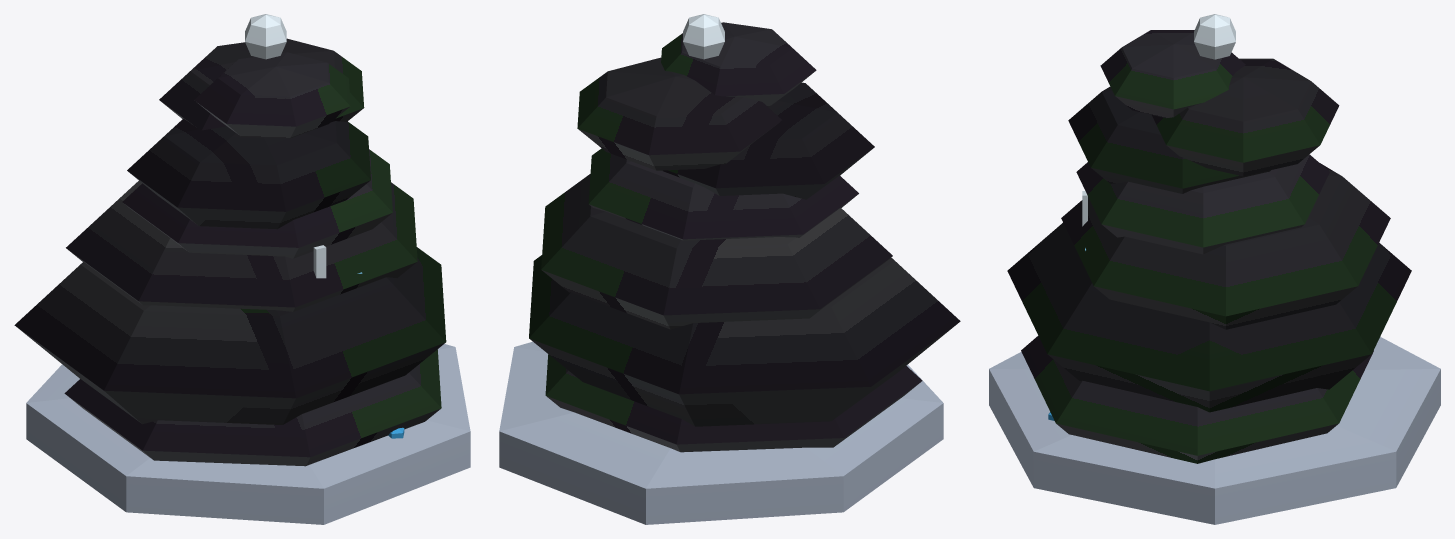
Rendered from nf_cairn.glb.
3 renders of one model, left to right at view 1: azimuth 30°, elevation 25°; view 2: azimuth 150°, elevation 25°; view 3: azimuth 270°, elevation 25°, orthographic.
Parts seen in each view (by area): view 1: nf_cairn; view 2: nf_cairn; view 3: nf_cairn.
Part boxes in pixels (box(x1,y1,x2,y2)): nf_cairn: box(14, 14, 470, 524); nf_cairn: box(499, 14, 960, 524); nf_cairn: box(989, 14, 1440, 524).
Size of the model in its own units: 1.62 by 1.68 by 1.58.
Materials: 3 (1 with a texture image).
